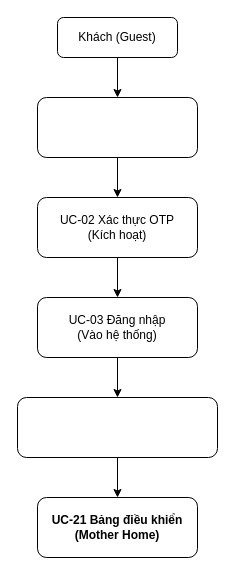
The diagram is 235 pixels wide and 575 high, and some of its shapes have lost their labels. The centre of each missing label's shape, as x and y in pixels:
"UC-01 Đăng ký tài khoản (Chọn vai trò: Mẹ)" goes at [117,127].
"UC-19 Khởi tạo hành trình (Nhập giai đoạn & ngày dự sinh)" goes at [117,427].
